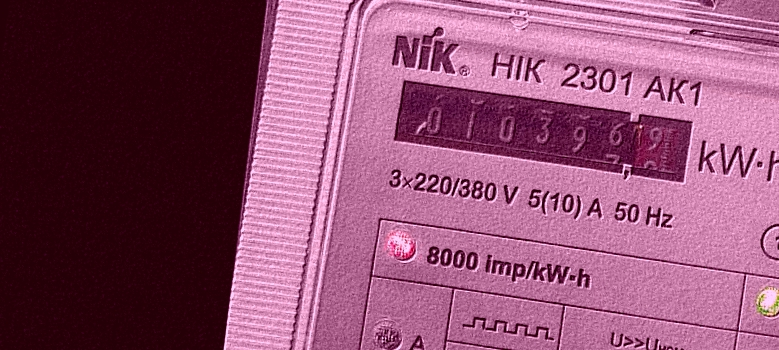0: (494, 111, 520, 146), (422, 102, 446, 137)
1: (462, 107, 479, 141)
3: (533, 114, 555, 149)
6: (605, 119, 629, 150)
9: (566, 122, 590, 157), (642, 124, 667, 157)
screen: (377, 66, 705, 199)
